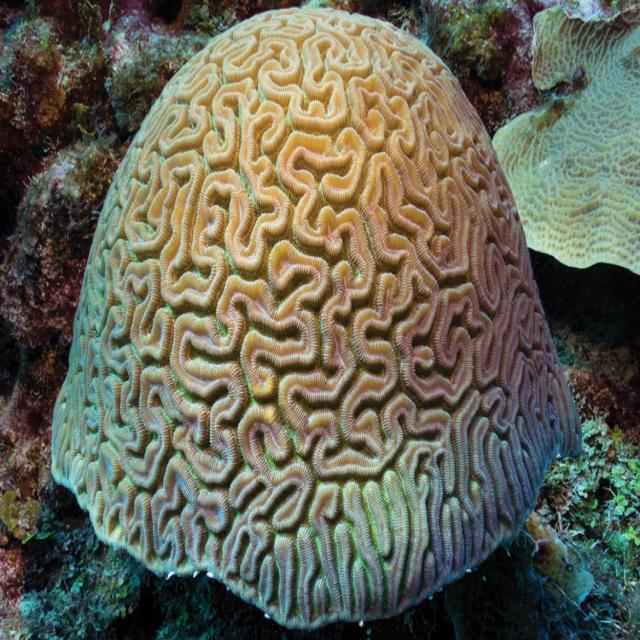Coral: (51, 4, 580, 630), (493, 8, 640, 276)
